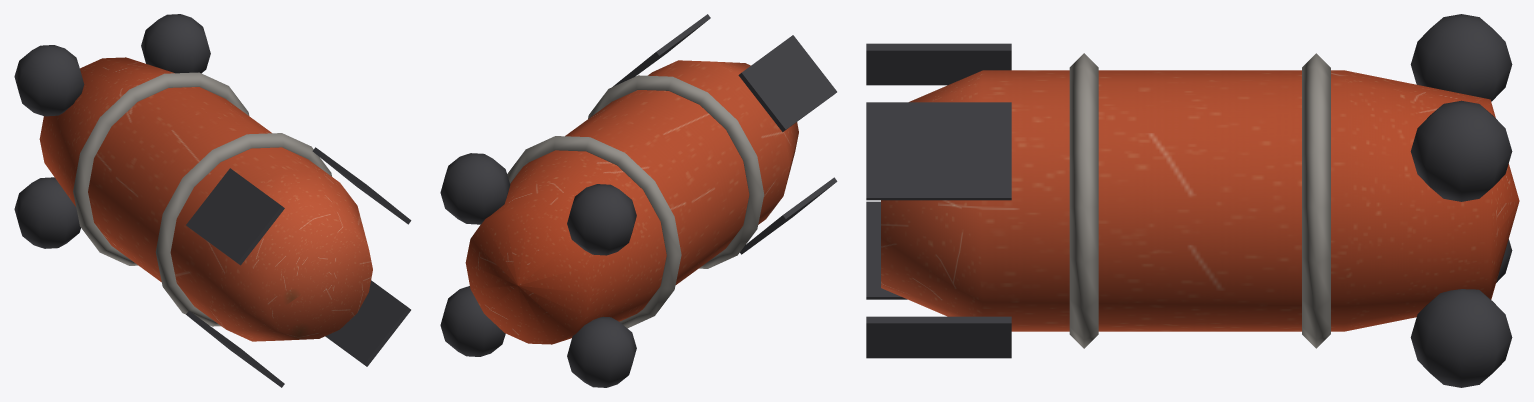
File: net_projectile.glb
3 renders of one model, left to right at view 1: azimuth 30°, elevation 25°; view 2: azimuth 150°, elevation 25°; view 3: azimuth 270°, elevation 25°, orthographic. The views are drawn at different scales.
Visible parts, largest first — view 1: net_projectile; view 2: net_projectile; view 3: net_projectile.
Part boxes in pixels (left/top/right/bottom): net_projectile: left=14, top=14, right=411, bottom=387; net_projectile: left=440, top=14, right=837, bottom=387; net_projectile: left=866, top=14, right=1519, bottom=387.
Size of the model in its own units: 0.2114 by 0.2114 by 0.45.
Materials: 3 (1 with a texture image).
